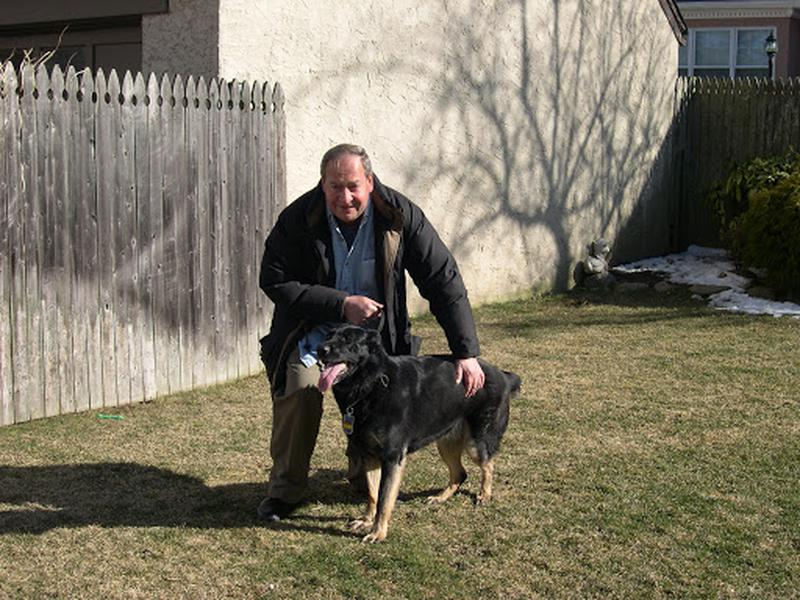dog_stand: (306, 322, 524, 547)
